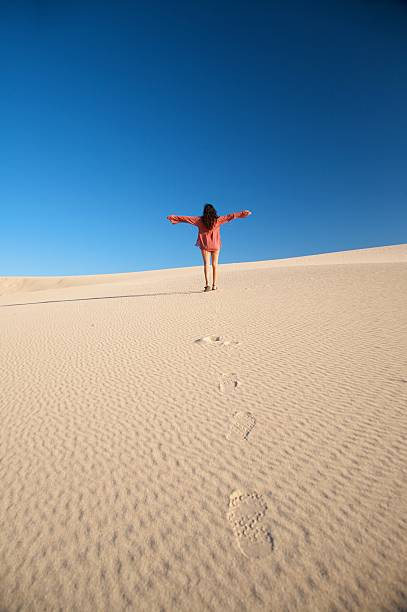human_footprint: (227, 490, 273, 558), (226, 411, 255, 440), (219, 373, 240, 394), (195, 335, 239, 345)
